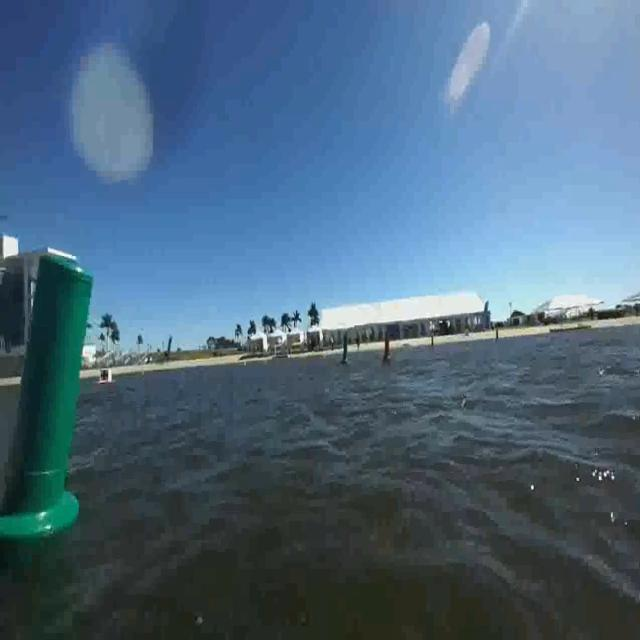green-column-buoy: (0, 249, 93, 538), (340, 332, 352, 367)
